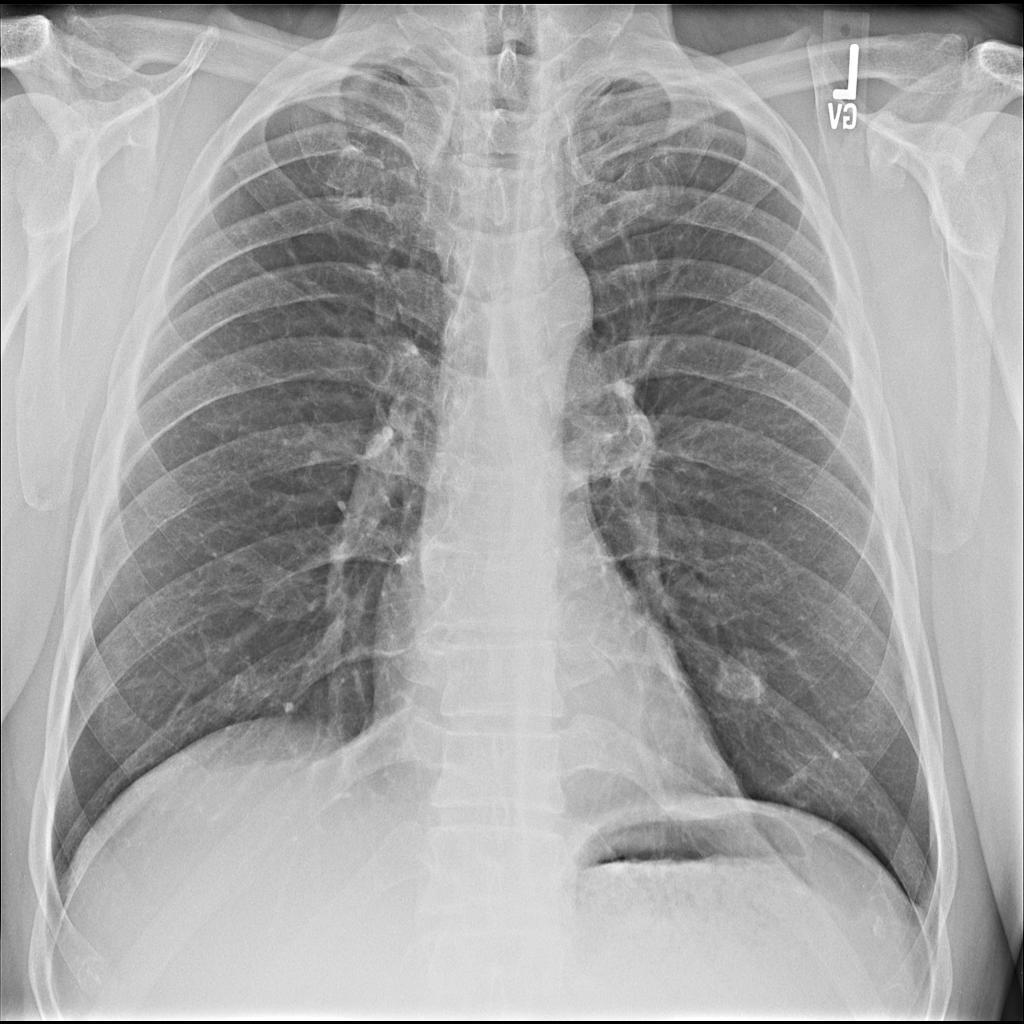Nodule: (712, 648, 769, 710)
